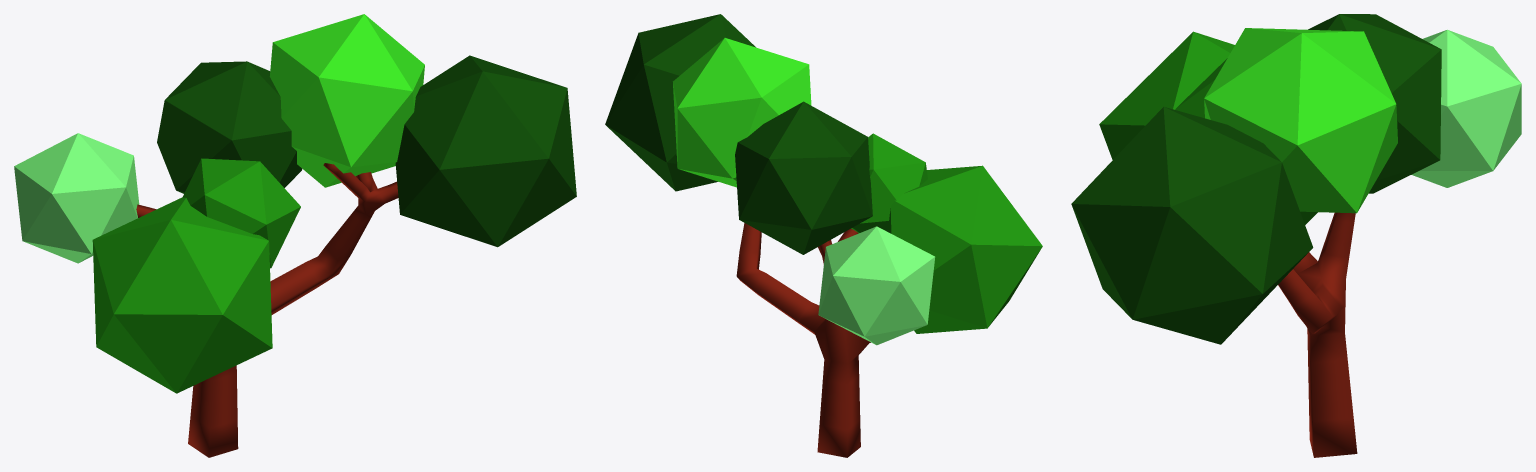
Rendered from tree1.gltf.
The picture shows the model from 3 angles, left to right: view 1: azimuth 30°, elevation 25°; view 2: azimuth 150°, elevation 25°; view 3: azimuth 270°, elevation 25°; orthographic projection. The views are drawn at different scales.
Parts seen in each view (by area): view 1: Icosphere.003, Icosphere.004, Icosphere.005, Icosphere.001, Icosphere, stamm, Icosphere.002; view 2: Icosphere.003, Icosphere.001, Icosphere.005, Icosphere, Icosphere.004, stamm, Icosphere.002; view 3: Icosphere.004, Icosphere.005, Icosphere, stamm, Icosphere.001, Icosphere.003, Icosphere.002.
Boxes of the visible parts, x1=… form: Icosphere.003: x1=92, y1=197, x2=272, y2=393; Icosphere.004: x1=395, y1=55, x2=576, y2=247; Icosphere.005: x1=269, y1=14, x2=424, y2=187; Icosphere.001: x1=157, y1=61, x2=302, y2=193; Icosphere: x1=14, y1=133, x2=139, y2=263; stamm: x1=136, y1=163, x2=398, y2=457; Icosphere.002: x1=182, y1=158, x2=300, y2=268; Icosphere.003: x1=883, y1=165, x2=1042, y2=333; Icosphere.001: x1=735, y1=101, x2=872, y2=254; Icosphere.005: x1=673, y1=38, x2=811, y2=187; Icosphere: x1=818, y1=226, x2=935, y2=345; Icosphere.004: x1=605, y1=14, x2=755, y2=191; stamm: x1=736, y1=223, x2=870, y2=457; Icosphere.002: x1=851, y1=133, x2=927, y2=233; Icosphere.004: x1=1071, y1=106, x2=1313, y2=344; Icosphere.005: x1=1204, y1=28, x2=1397, y2=213; Icosphere: x1=1411, y1=29, x2=1521, y2=187; stamm: x1=1278, y1=212, x2=1357, y2=457; Icosphere.001: x1=1308, y1=14, x2=1441, y2=193; Icosphere.003: x1=1099, y1=31, x2=1317, y2=224; Icosphere.002: x1=1175, y1=58, x2=1227, y2=118.
Size of the model in its own units: 7.19 by 6.27 by 5.15.
7 materials, 7 textured.
